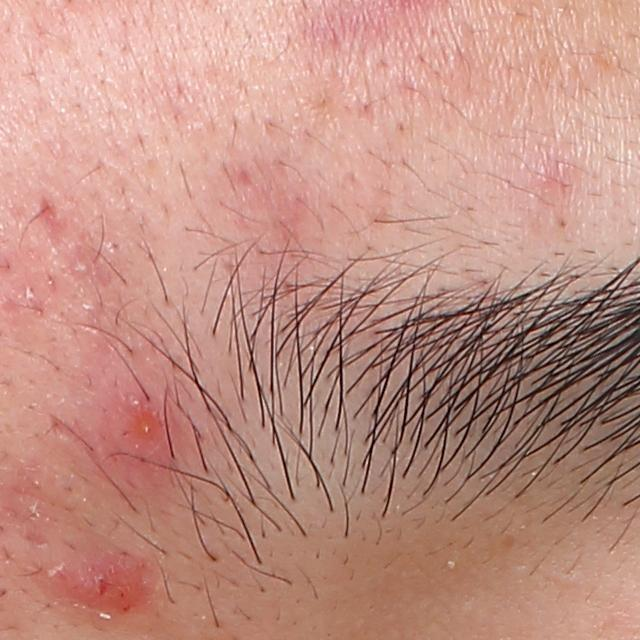papule: (102, 380, 184, 472), (56, 543, 153, 614)
